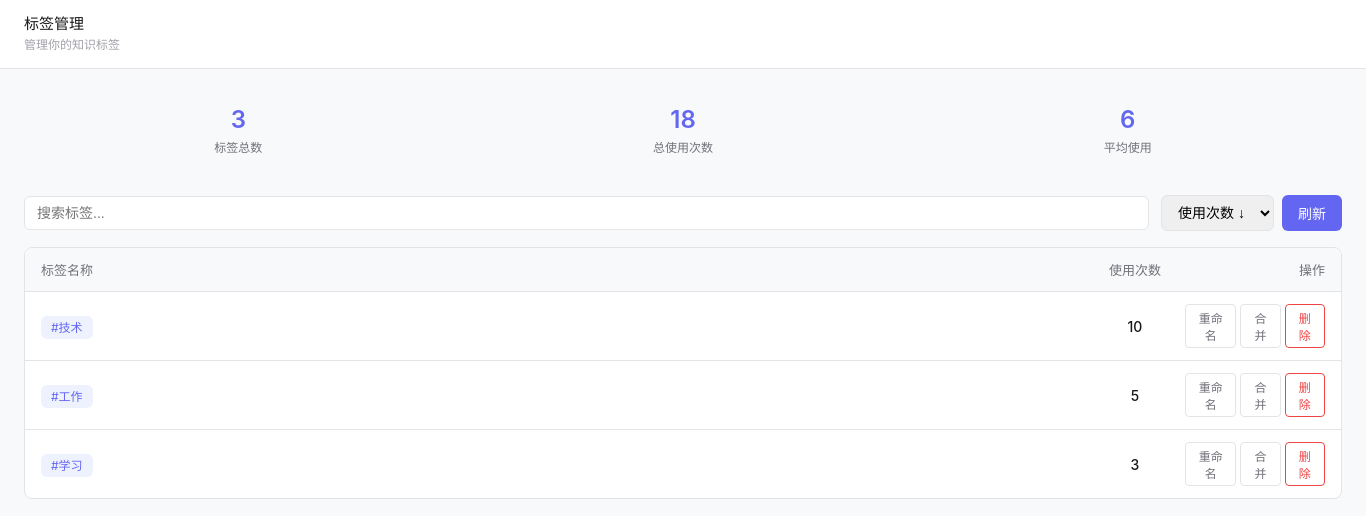
TagsManagement Component › should filter tags by search query
The image size is (1366, 516).
Type "技" into the field with placeholder "搜索标签..." at (586, 213), box [24, 196, 1149, 230]
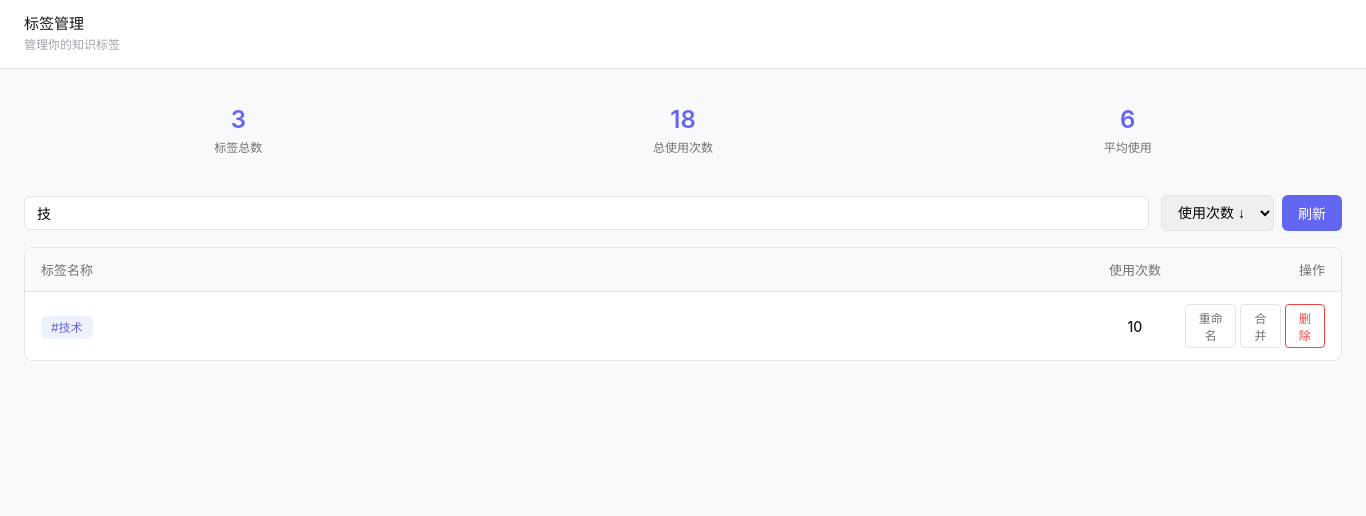
Expected: the text "#技术" is shown, [41, 316, 93, 339]
Now the text "#工作" is gone
